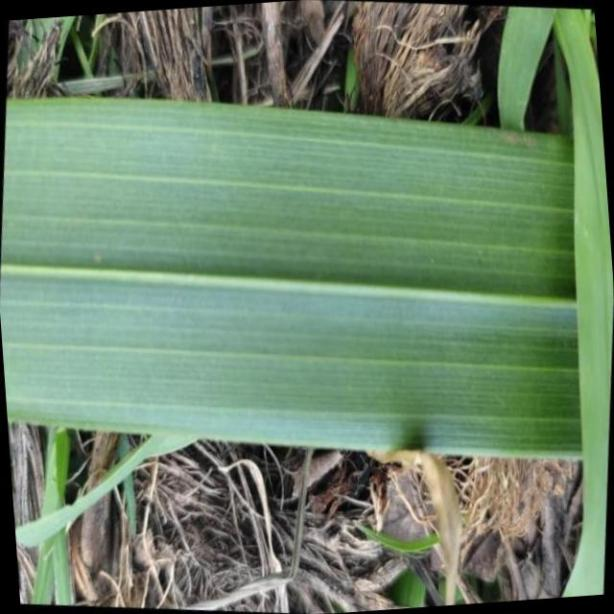Healthy: (1, 97, 614, 458)
